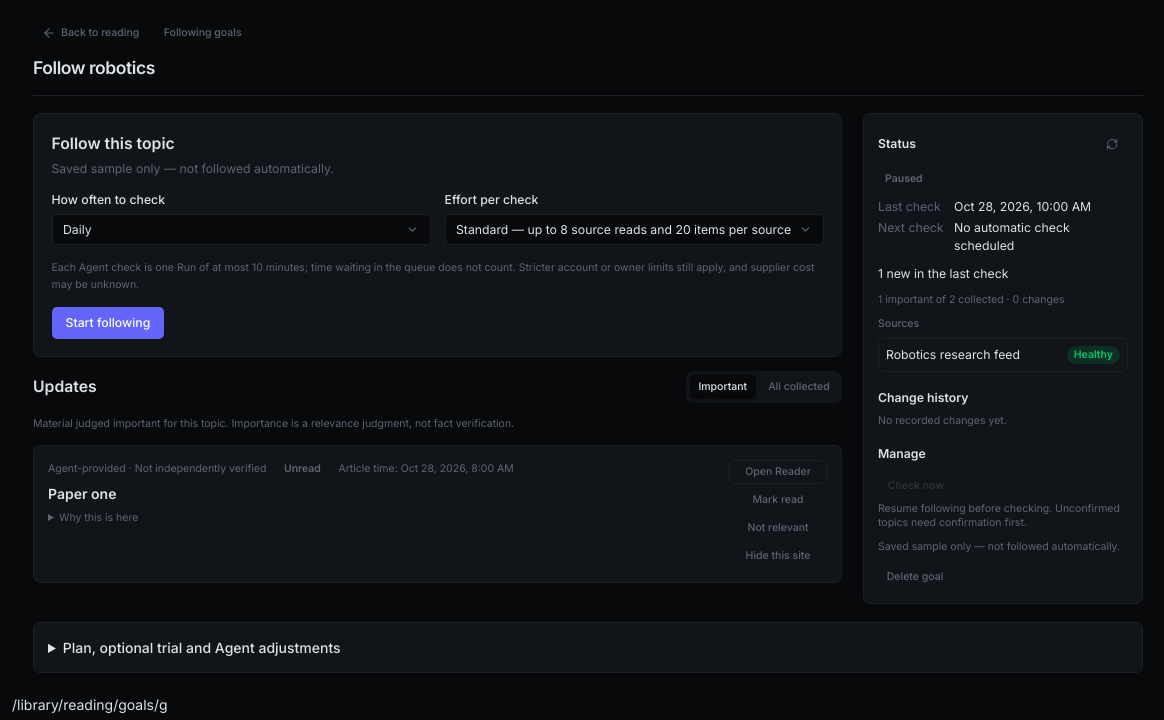
offers following a manual-save-only topic and keeps its trial retryable without auto-resume
The image size is (1164, 720).
Expected: the heading "Follow this topic" is shown, [52,134,175,152]
Click the heading "Plan, optional trial and Agent adjustments".
click(202, 647)  # box [63,639,341,656]
(page scrolled)
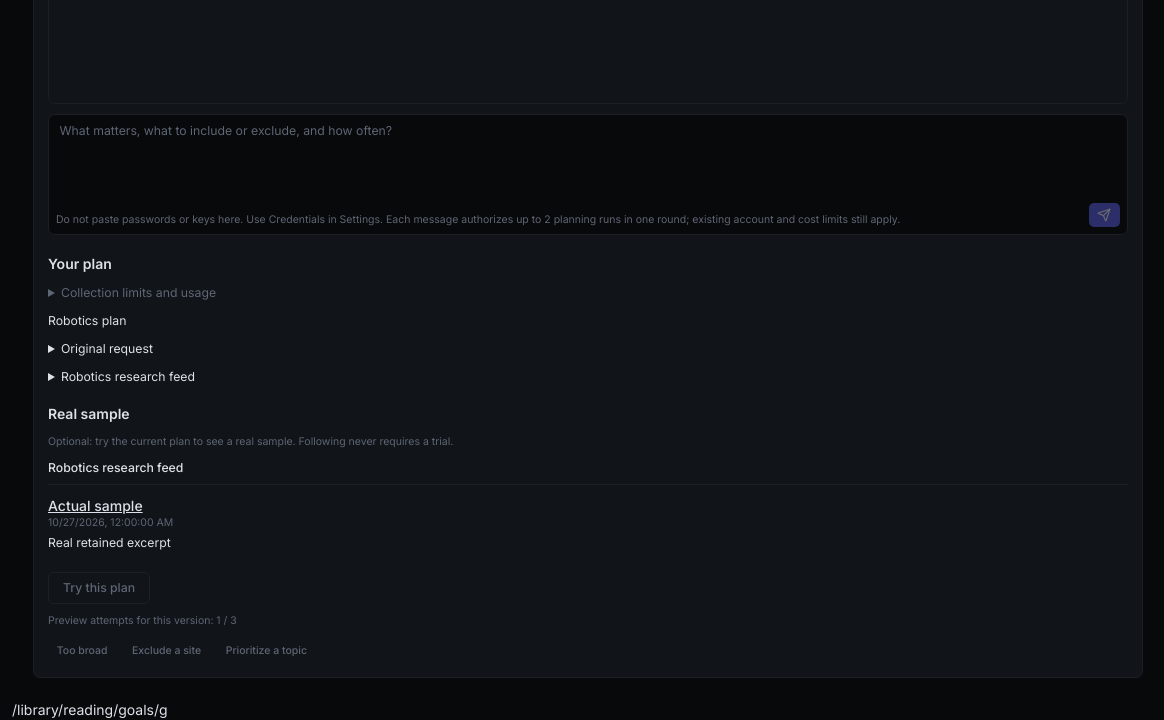
Result: the button "Try this plan" is enabled at [48,572,150,604]
